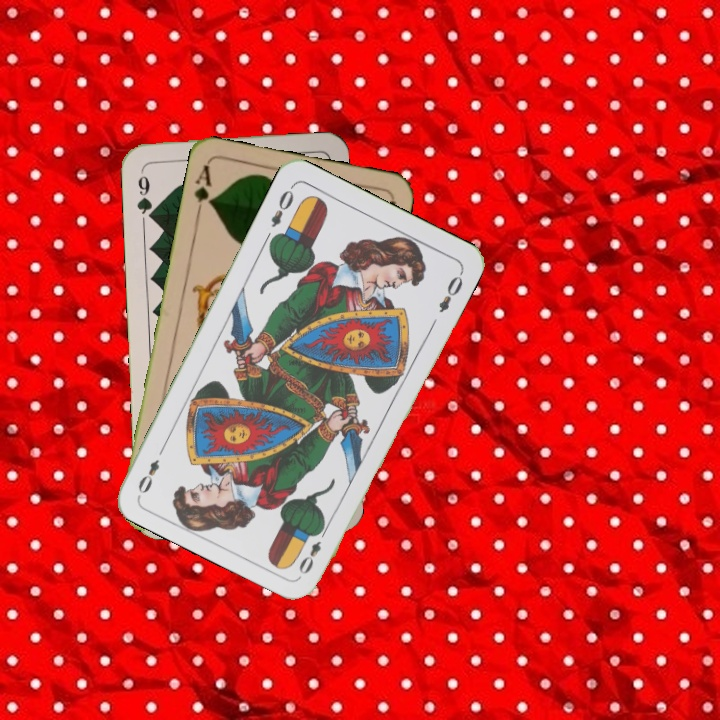EO: (295, 522, 331, 577), (267, 181, 297, 230)
G9: (133, 164, 157, 223)
GA: (190, 160, 216, 220)
